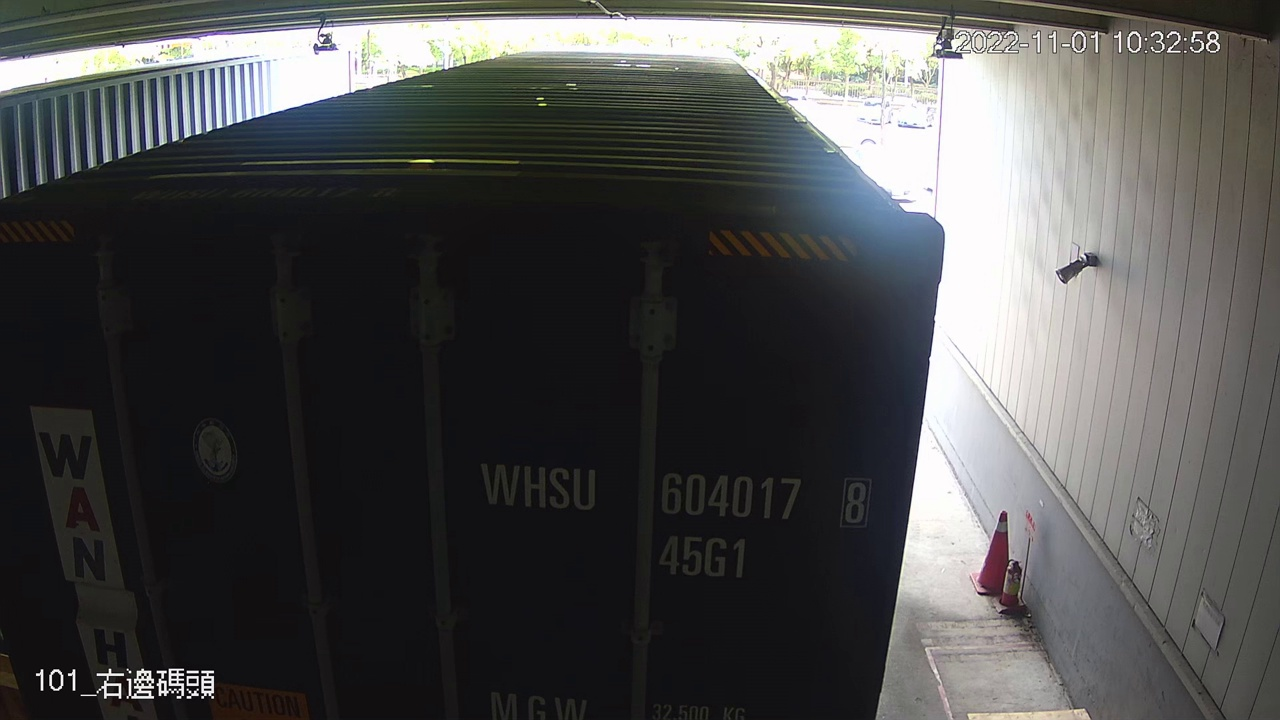container: (468, 443, 885, 588)
